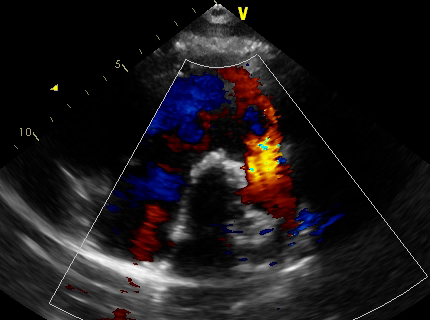PR: (240, 125, 293, 183)
